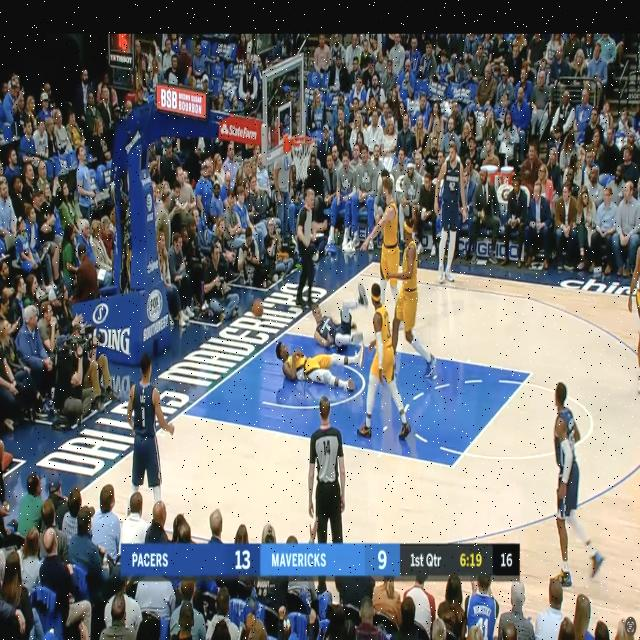foul: (266, 280, 364, 388)
no foul: (360, 222, 423, 444), (369, 182, 437, 364)
